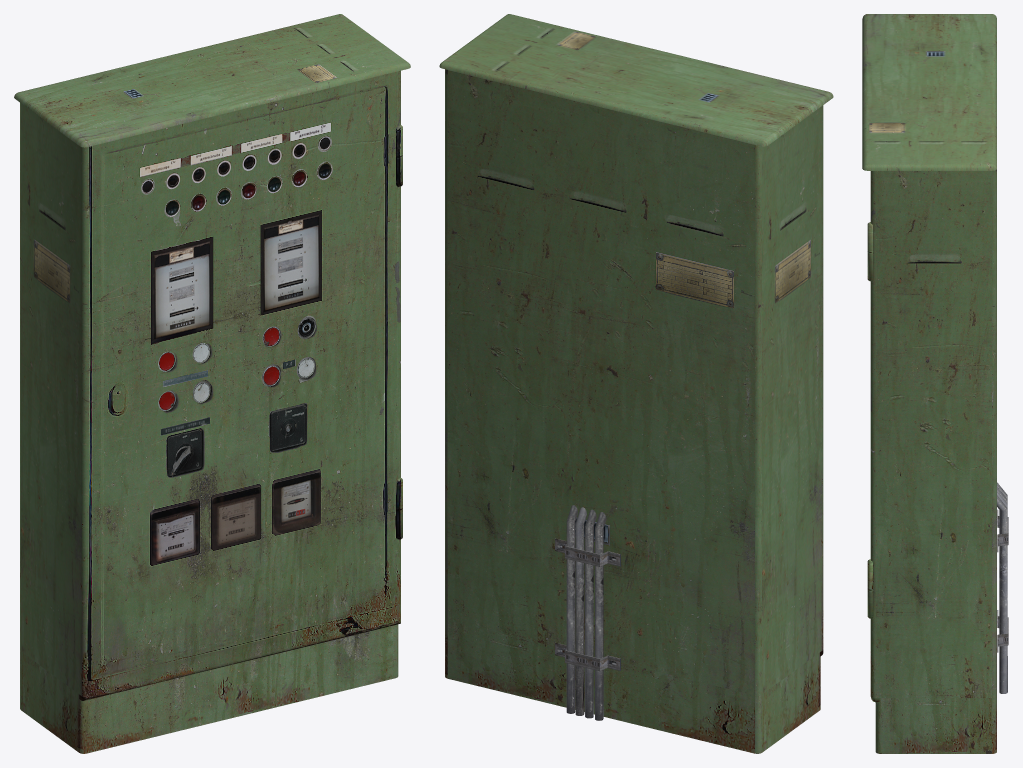
File: PowerBox04.FBX
The picture shows the model from 3 angles, left to right: view 1: azimuth 30°, elevation 25°; view 2: azimuth 150°, elevation 25°; view 3: azimuth 270°, elevation 25°; orthographic projection. The views are drawn at different scales.
Parts seen in each view (by area): view 1: PowerBoxMetal; view 2: PowerBoxMetal; view 3: PowerBoxMetal.
Part boxes in pixels (x1=…): PowerBoxMetal: x1=14, y1=14, x2=410, y2=753; PowerBoxMetal: x1=439, y1=14, x2=833, y2=753; PowerBoxMetal: x1=862, y1=14, x2=1008, y2=753.
Bounding box in the file's own units: 36.22 × 64.73 × 14.53.
